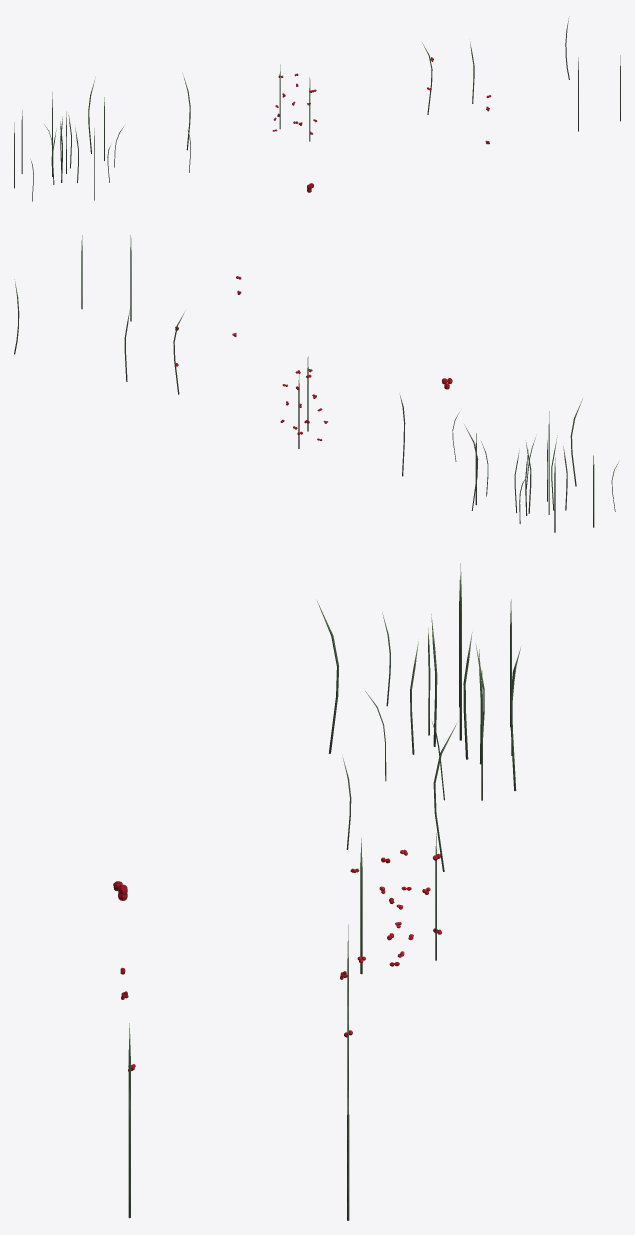
File: medium_tree_02.glb
The picture shows the model from 3 angles, top to bottom: view 1: azimuth 30°, elevation 25°; view 2: azimuth 150°, elevation 25°; view 3: azimuth 270°, elevation 25°; orthographic projection. The views are drawn at different scales.
Visible parts, largest first — view 1: medium_tree_02; view 2: medium_tree_02; view 3: medium_tree_02.
Boxes of the visible parts, box(x1,y1,x2,y2) form: medium_tree_02: box(14, 16, 620, 201); medium_tree_02: box(14, 235, 619, 532); medium_tree_02: box(113, 563, 521, 1220).
Bounding box in the file's own units: 17.97 × 3 × 5.98.
Materials: 1 (1 with a texture image).
